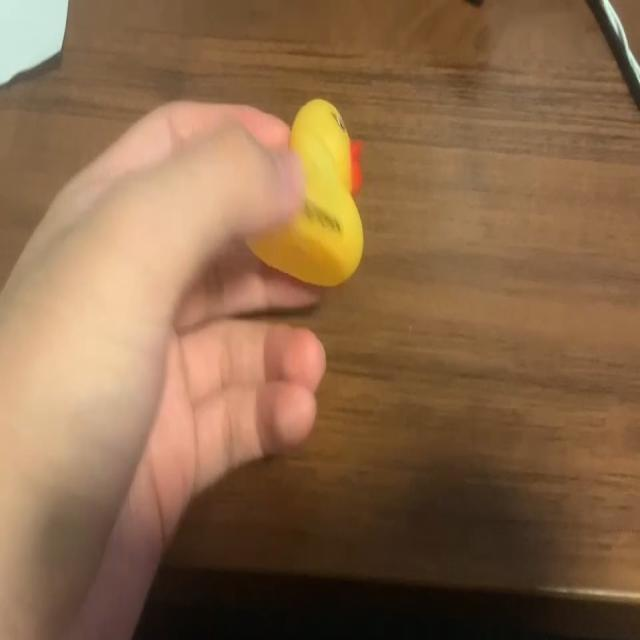rubber-duck: (248, 98, 362, 284)
